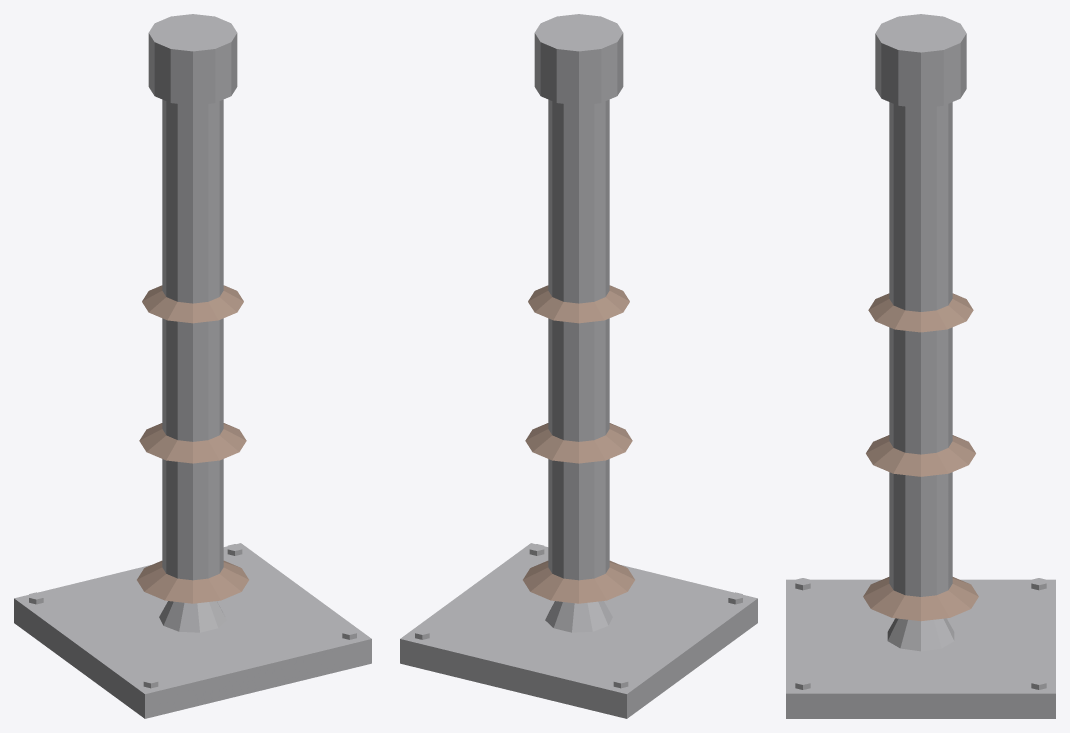
Rendered from drill_bit_common.glb.
The picture shows the model from 3 angles, left to right: view 1: azimuth 30°, elevation 25°; view 2: azimuth 150°, elevation 25°; view 3: azimuth 270°, elevation 25°; orthographic projection. The views are drawn at different scales.
Visible parts, largest first — view 1: drill_bit; view 2: drill_bit; view 3: drill_bit.
Boxes of the visible parts, left/top/right/bottom form: drill_bit: left=14, top=14, right=371, bottom=718; drill_bit: left=400, top=14, right=757, bottom=718; drill_bit: left=786, top=14, right=1055, bottom=718.
Bounding box in the file's own units: 1.54 × 3.95 × 1.54.
